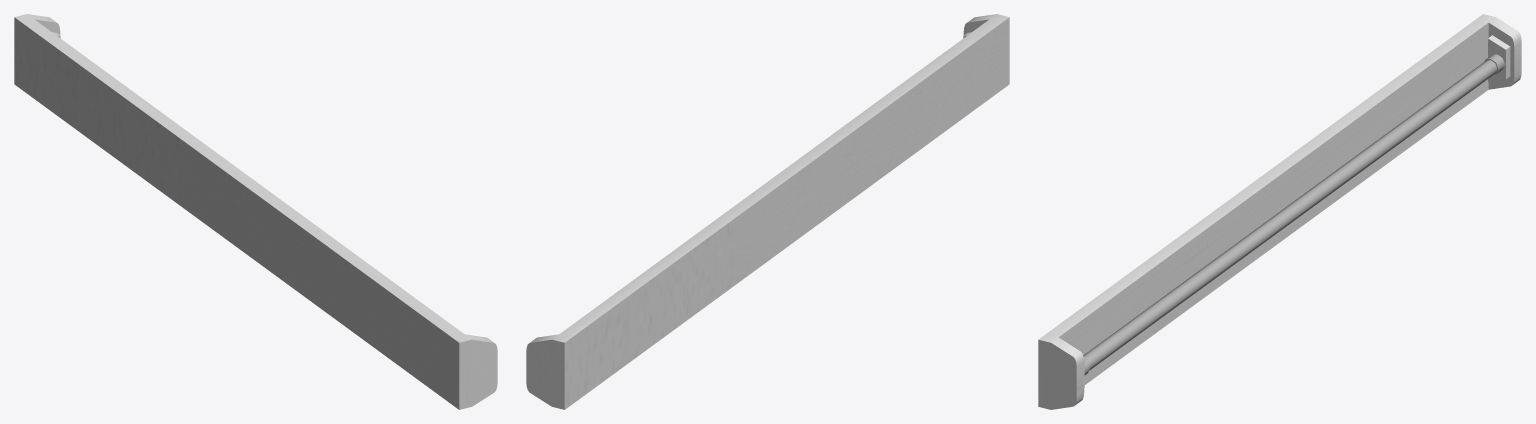
Rendered from wall_lamp.obj.
3 views of the same model, side by side, from view 1: azimuth 30°, elevation 25°; view 2: azimuth 150°, elevation 25°; view 3: azimuth 330°, elevation 25° (orthographic).
Visible parts, largest first — view 1: wall_lamp; view 2: wall_lamp; view 3: wall_lamp.
Part boxes in pixels (x1,y1,x2,y2): wall_lamp: (14,14,497,409); wall_lamp: (526,14,1009,409); wall_lamp: (1038,14,1521,409).
Size of the model in its own units: 0.075 by 0.125 by 1.5.
2 materials, 2 textured.
